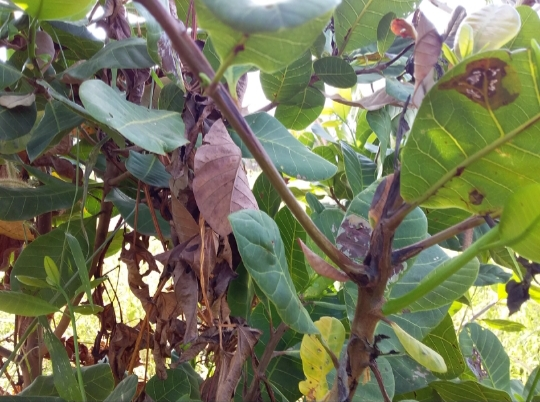Dessèchement des bourgeons: (349, 217, 411, 292)
